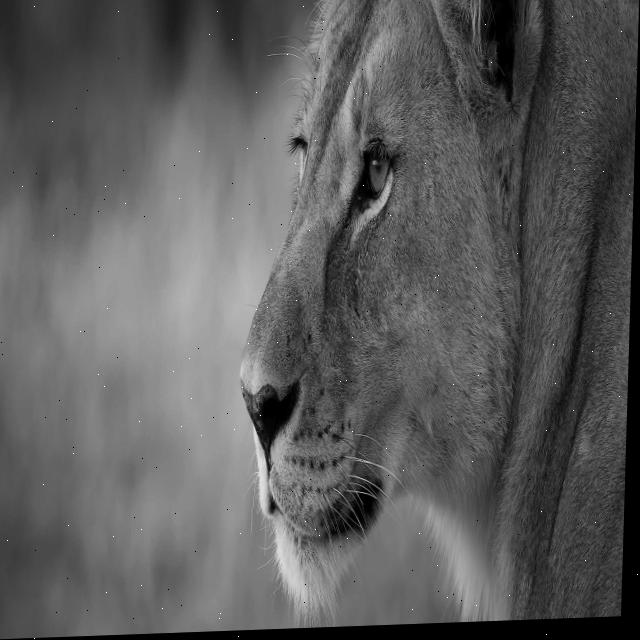Lion: (215, 0, 617, 547)
